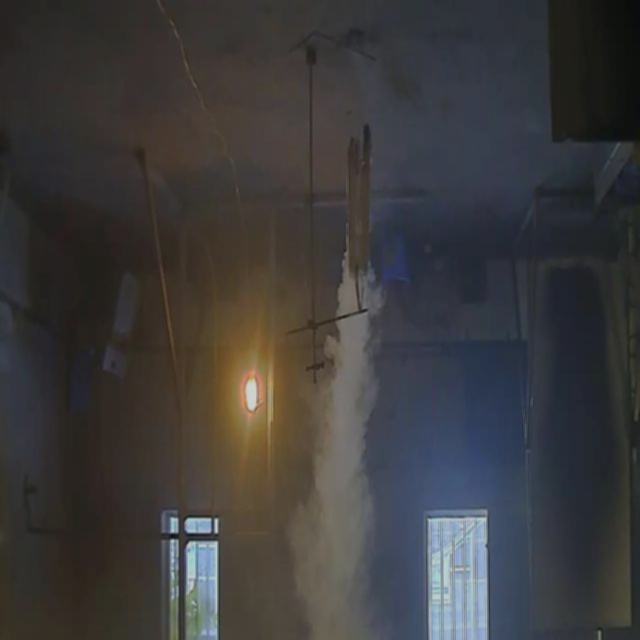smoke: (279, 208, 395, 640)
